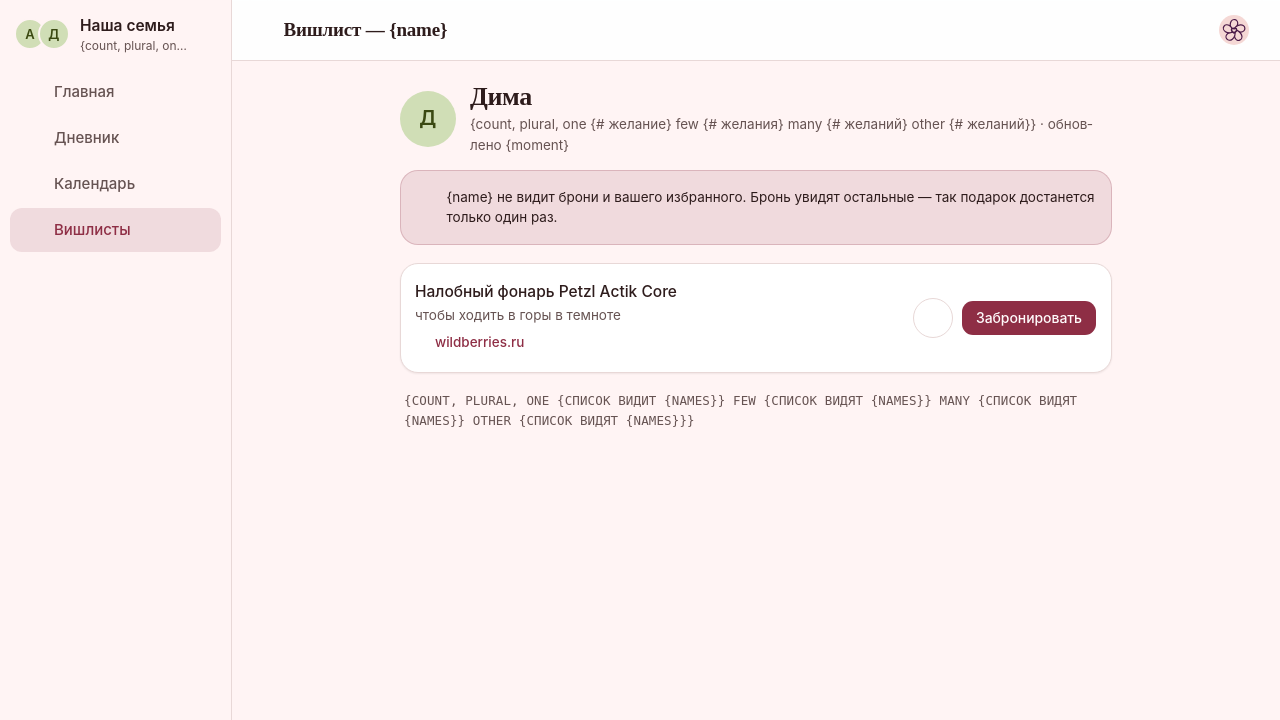
it: the person screen gift controls (issue #19) › favorites another member’s wish through the heart, and un-favorites when held
Click the button named "В избранное" at (933, 318), box [913,298,953,338]
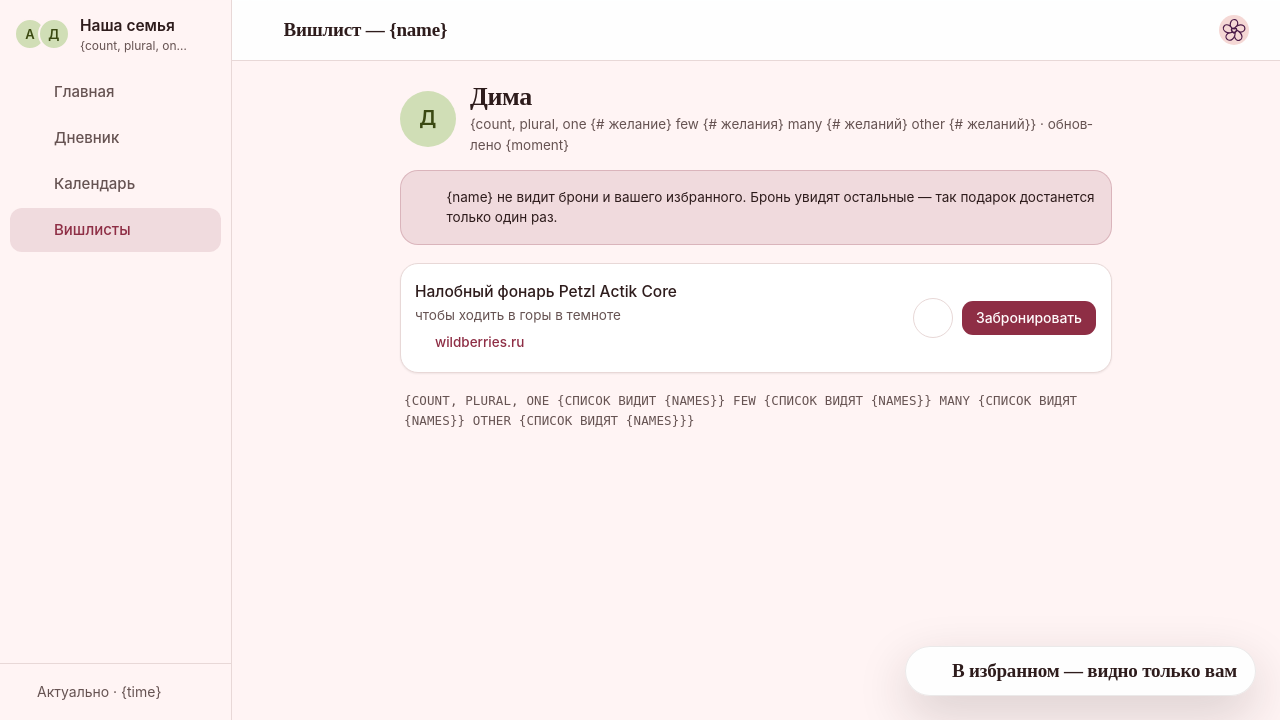
Check: the heading "В избранном — видно только вам" is shown, box [952,659,1237,683]
